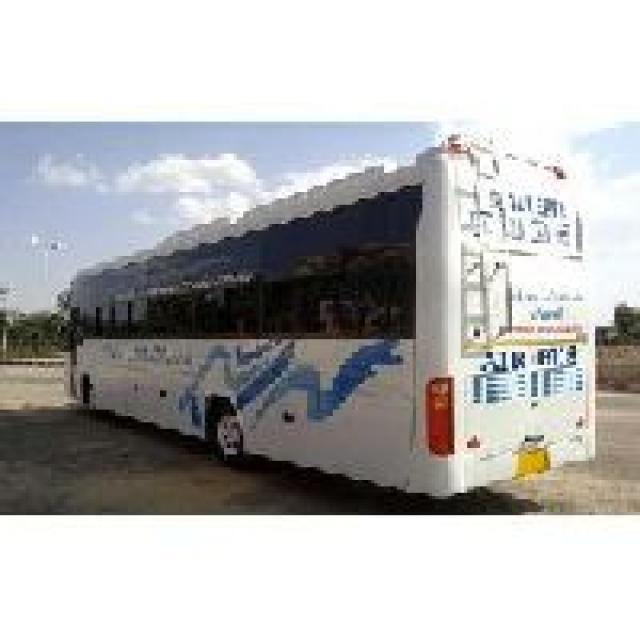bus: (72, 135, 595, 496)
